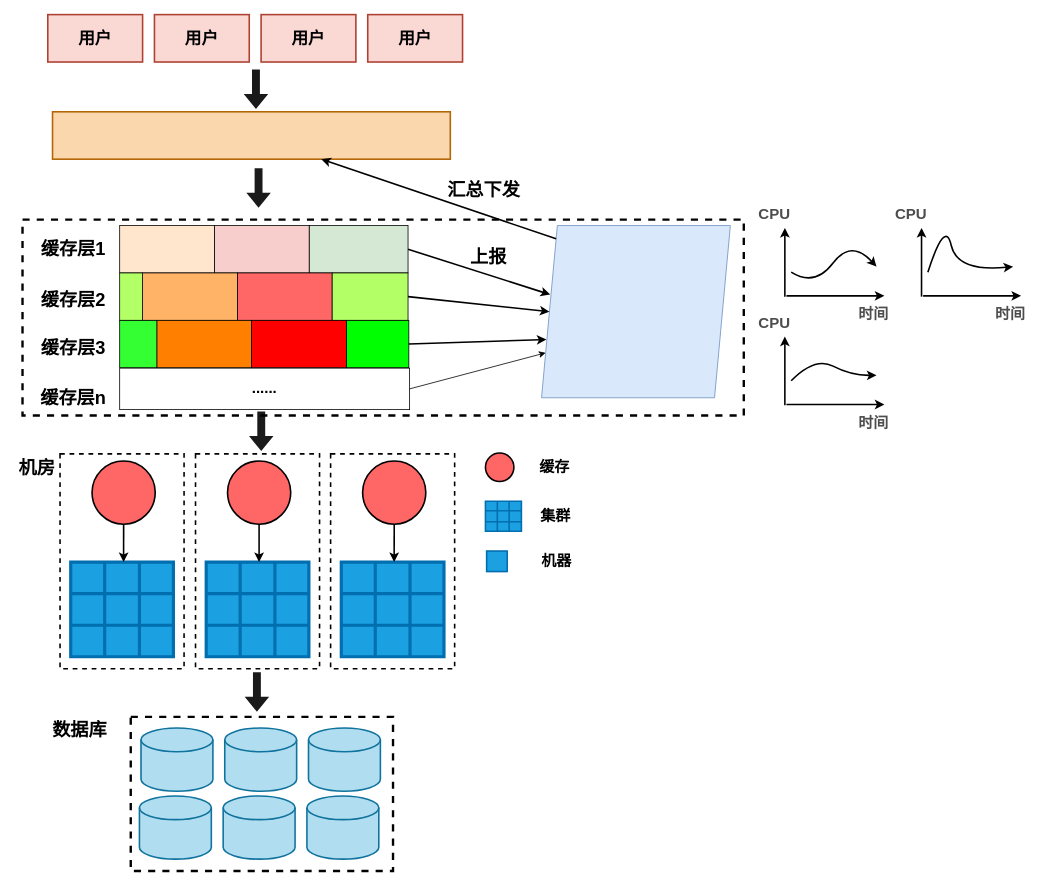
Image size: 1050x886. Some labels were removed from this diagram. Each missing label, with the box of its shape:
CPU监控 机器心跳监控: (541, 225, 730, 398)
路由服务器: (51, 111, 451, 160)
